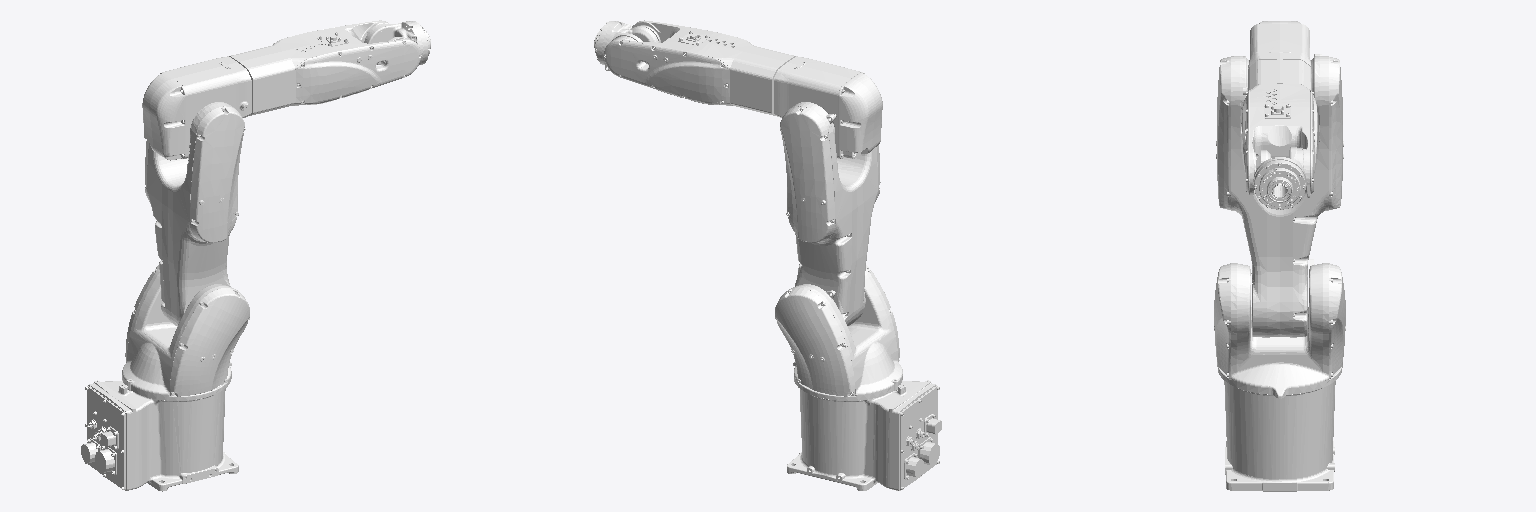
URDF robot description (mz07l):
<?xml version="1.0" encoding="utf-8"?>
<!-- This URDF was automatically created by SolidWorks to URDF Exporter! Originally created by [author] ([email redacted]) 
     Commit Version: 1.6.0-4-g7f85cfe  Build Version: 1.6.7995.38578
     For more information, please see http://wiki.ros.org/sw_urdf_exporter -->
<robot
  name="mz07l">
  <link
    name="base_link">
    <inertial>
      <origin
        xyz="-0.0339413550611 -2.31586087358071E-05 0.0999304628614501"
        rpy="0 0 0" />
      <mass
        value="7.48699011088476" />
      <inertia
        ixx="0.0388213139945611"
        ixy="1.55653817415242E-05"
        ixz="-0.00111870477566243"
        iyy="0.0609468745248538"
        iyz="1.10362007676289E-05"
        izz="0.0543745416553623" />
    </inertial>
    <visual>
      <origin
        xyz="0 0 0"
        rpy="0 0 0" />
      <geometry>
        <mesh
          filename="package://mz07l/meshes/base_link.STL" />
      </geometry>
      <material
        name="">
        <color
          rgba="1 1 1 1" />
      </material>
    </visual>
    <collision>
      <origin
        xyz="0 0 0"
        rpy="0 0 0" />
      <geometry>
        <mesh
          filename="package://mz07l/meshes/base_link.STL" />
      </geometry>
    </collision>
  </link>
  <link
    name="base">
    <inertial>
      <origin
        xyz="-0.0339413550611 -2.31586087358071E-05 0.0999304628614501"
        rpy="0 0 0" />
      <mass
        value="7.48699011088476" />
      <inertia
        ixx="0.0388213139945611"
        ixy="1.55653817415241E-05"
        ixz="-0.00111870477566243"
        iyy="0.0609468745248538"
        iyz="1.10362007676287E-05"
        izz="0.0543745416553623" />
    </inertial>
    <visual>
      <origin
        xyz="0 0 0"
        rpy="0 0 0" />
      <geometry>
        <mesh
          filename="package://mz07l/meshes/base.STL" />
      </geometry>
      <material
        name="">
        <color
          rgba="1 1 1 1" />
      </material>
    </visual>
    <collision>
      <origin
        xyz="0 0 0"
        rpy="0 0 0" />
      <geometry>
        <mesh
          filename="package://mz07l/meshes/base.STL" />
      </geometry>
    </collision>
  </link>
  <joint
    name="J0"
    type="fixed">
    <origin
      xyz="0 0 0"
      rpy="0 0 0" />
    <parent
      link="base_link" />
    <child
      link="base" />
    <axis
      xyz="0 0 0" />
  </joint>
  <link
    name="Link1">
    <inertial>
      <origin
        xyz="0.014841210559779 1.5699038155903E-05 0.0811924353570906"
        rpy="0 0 0" />
      <mass
        value="4.4119668882482" />
      <inertia
        ixx="0.0358985469586784"
        ixy="5.22005399590224E-07"
        ixz="-0.0047925881900029"
        iyy="0.0236405205772908"
        iyz="-8.45938545831362E-06"
        izz="0.0303112529475369" />
    </inertial>
    <visual>
      <origin
        xyz="0 0 0"
        rpy="0 0 0" />
      <geometry>
        <mesh
          filename="package://mz07l/meshes/Link1.STL" />
      </geometry>
      <material
        name="">
        <color
          rgba="1 1 1 1" />
      </material>
    </visual>
    <collision>
      <origin
        xyz="0 0 0"
        rpy="0 0 0" />
      <geometry>
        <mesh
          filename="package://mz07l/meshes/Link1.STL" />
      </geometry>
    </collision>
  </link>
  <joint
    name="J1"
    type="revolute">
    <origin
      xyz="0 0 0.197"
      rpy="0 0 0" />
    <parent
      link="base" />
    <child
      link="Link1" />
    <axis
      xyz="0 0 -1" />
    <limit
      lower="-2.97"
      upper="2.97"
      effort="100"
      velocity="5.24" />
  </joint>
  <link
    name="Link2">
    <inertial>
      <origin
        xyz="-0.011346 -0.20155 -0.00011313"
        rpy="0 0 0" />
      <mass
        value="6.848" />
      <inertia
        ixx="0.14556"
        ixy="-0.00090711"
        ixz="5.9383E-06"
        iyy="0.030004"
        iyz="0.00015927"
        izz="0.12908" />
    </inertial>
    <visual>
      <origin
        xyz="0 0 0"
        rpy="0 0 0" />
      <geometry>
        <mesh
          filename="package://mz07l/meshes/Link2.STL" />
      </geometry>
      <material
        name="">
        <color
          rgba="1 1 1 1" />
      </material>
    </visual>
    <collision>
      <origin
        xyz="0 0 0"
        rpy="0 0 0" />
      <geometry>
        <mesh
          filename="package://mz07l/meshes/Link2.STL" />
      </geometry>
    </collision>
  </link>
  <joint
    name="J2"
    type="revolute">
    <origin
      xyz="0.05 0 0.148"
      rpy="-1.5708 0 0" />
    <parent
      link="Link1" />
    <child
      link="Link2" />
    <axis
      xyz="0 0 -1" />
    <limit
      lower="-2.36"
      upper="1.40"
      effort="100"
      velocity="4.89" />
  </joint>
  <link
    name="Link3">
    <inertial>
      <origin
        xyz="-0.00904991070713413 -0.0205515465689395 -0.000350779118959976"
        rpy="0 0 0" />
      <mass
        value="2.92582891160545" />
      <inertia
        ixx="0.00798036496861194"
        ixy="0.000905760336948981"
        ixz="-2.40936433332828E-05"
        iyy="0.0108776733436978"
        iyz="4.00887085723535E-05"
        izz="0.0138666321003948" />
    </inertial>
    <visual>
      <origin
        xyz="0 0 0"
        rpy="0 0 0" />
      <geometry>
        <mesh
          filename="package://mz07l/meshes/Link3.STL" />
      </geometry>
      <material
        name="">
        <color
          rgba="1 1 1 1" />
      </material>
    </visual>
    <collision>
      <origin
        xyz="0 0 0"
        rpy="0 0 0" />
      <geometry>
        <mesh
          filename="package://mz07l/meshes/Link3.STL" />
      </geometry>
    </collision>
  </link>
  <joint
    name="J3"
    type="revolute">
    <origin
      xyz="0 -0.41 0"
      rpy="0 0 0" />
    <parent
      link="Link2" />
    <child
      link="Link3" />
    <axis
      xyz="0 0 -1" />
    <limit
      lower="-1.169"
      upper="3.316"
      effort="100"
      velocity="6.28" />
  </joint>
  <link
    name="Link4">
    <inertial>
      <origin
        xyz="0.00015954 0.00087409 -0.18756"
        rpy="0 0 0" />
      <mass
        value="3.6583" />
      <inertia
        ixx="0.036368"
        ixy="1.7015E-05"
        ixz="-1.3434E-05"
        iyy="0.034763"
        iyz="-0.00043475"
        izz="0.0075828" />
    </inertial>
    <visual>
      <origin
        xyz="0 0 0"
        rpy="0 0 0" />
      <geometry>
        <mesh
          filename="package://mz07l/meshes/Link4.STL" />
      </geometry>
      <material
        name="">
        <color
          rgba="1 1 1 1" />
      </material>
    </visual>
    <collision>
      <origin
        xyz="0 0 0"
        rpy="0 0 0" />
      <geometry>
        <mesh
          filename="package://mz07l/meshes/Link4.STL" />
      </geometry>
    </collision>
  </link>
  <joint
    name="J4"
    type="revolute">
    <origin
      xyz="0.44 -0.044808 0"
      rpy="1.5708 0 1.5708" />
    <parent
      link="Link3" />
    <child
      link="Link4" />
    <axis
      xyz="0 0 -1" />
    <limit
      lower="-3.32"
      upper="3.32"
      effort="100"
      velocity="9.60" />
  </joint>
  <link
    name="Link5">
    <inertial>
      <origin
        xyz="0.023041 2.0859E-05 -0.0044785"
        rpy="0 0 0" />
      <mass
        value="0.39428" />
      <inertia
        ixx="0.00041541"
        ixy="-1.4643E-08"
        ixz="-4.174E-05"
        iyy="0.00053836"
        iyz="-6.3077E-07"
        izz="0.00049121" />
    </inertial>
    <visual>
      <origin
        xyz="0 0 0"
        rpy="0 0 0" />
      <geometry>
        <mesh
          filename="package://mz07l/meshes/Link5.STL" />
      </geometry>
      <material
        name="">
        <color
          rgba="1 1 1 1" />
      </material>
    </visual>
    <collision>
      <origin
        xyz="0 0 0"
        rpy="0 0 0" />
      <geometry>
        <mesh
          filename="package://mz07l/meshes/Link5.STL" />
      </geometry>
    </collision>
  </link>
  <joint
    name="J5"
    type="revolute">
    <origin
      xyz="0 0 0"
      rpy="1.5708 -1.5708 0" />
    <parent
      link="Link4" />
    <child
      link="Link5" />
    <axis
      xyz="0 0 -1" />
    <limit
      lower="-2.09"
      upper="2.09"
      effort="100"
      velocity="9.60" />
  </joint>
  <link
    name="Link6">
    <inertial>
      <origin
        xyz="-0.000274577916602459 -7.35966871450722E-05 0.0700828201728696"
        rpy="0 0 0" />
      <mass
        value="0.0303019455167" />
      <inertia
        ixx="1.15411094306873E-05"
        ixy="7.12452260823137E-08"
        ixz="-9.29996448151996E-09"
        iyy="1.10884218603645E-05"
        iyz="-2.48005623844806E-09"
        izz="2.14713719931202E-05" />
    </inertial>
    <visual>
      <origin
        xyz="0 0 0"
        rpy="0 0 0" />
      <geometry>
        <mesh
          filename="package://mz07l/meshes/Link6.STL" />
      </geometry>
      <material
        name="">
        <color
          rgba="1 1 1 1" />
      </material>
    </visual>
    <collision>
      <origin
        xyz="0 0 0"
        rpy="0 0 0" />
      <geometry>
        <mesh
          filename="package://mz07l/meshes/Link6.STL" />
      </geometry>
    </collision>
  </link>
  <joint
    name="J6"
    type="revolute">
    <origin
      xyz="0 0 0"
      rpy="1.5708 0 1.5708" />
    <parent
      link="Link5" />
    <child
      link="Link6" />
    <axis
      xyz="0 0 -1" />
    <limit
      lower="-6.28"
      upper="6.28"
      effort="100"
      velocity="17.5" />
  </joint>
  <link
    name="Tools">
    <inertial>
      <origin
        xyz="-0.00027457791660368 -7.35966871449611E-05 -0.00291717982713169"
        rpy="0 0 0" />
      <mass
        value="0.0303019455167" />
      <inertia
        ixx="1.15411094306873E-05"
        ixy="7.12452260822958E-08"
        ixz="-9.29996448151563E-09"
        iyy="1.10884218603645E-05"
        iyz="-2.48005623844378E-09"
        izz="2.14713719931202E-05" />
    </inertial>
    <visual>
      <origin
        xyz="0 0 0"
        rpy="0 0 0" />
      <geometry>
        <mesh
          filename="package://mz07l/meshes/Tools.STL" />
      </geometry>
      <material
        name="">
        <color
          rgba="1 1 1 1" />
      </material>
    </visual>
    <collision>
      <origin
        xyz="0 0 0"
        rpy="0 0 0" />
      <geometry>
        <mesh
          filename="package://mz07l/meshes/Tools.STL" />
      </geometry>
    </collision>
  </link>
  <joint
    name="J7"
    type="fixed">
    <origin
      xyz="0 0 0.073"
      rpy="0 0 0" />
    <parent
      link="Link6" />
    <child
      link="Tools" />
    <axis
      xyz="0 0 0" />
  </joint>
</robot>

--- Facts derived from the render (not from the file) ---
Views: 3 orthographic renders of the robot side by side, from view 1: azimuth 30°, elevation 25°; view 2: azimuth 150°, elevation 25°; view 3: azimuth 270°, elevation 25°.
Model mz07l with 9 links and 8 joints (6 revolute, 2 fixed), rooted at base_link, posed every joint at zero.
Links seen in each view (by area): view 1: Link2, base_link, Link1, Link4, Link3, Link5; view 2: Link2, base_link, Link1, Link4, Link3, Link5; view 3: Link2, Link1, base_link, Link4, Link3, Link5, Link6.
Boxes of the visible links, bbox=[...] form: Link2: bbox=[145, 102, 245, 326]; base_link: bbox=[81, 380, 238, 491]; Link1: bbox=[122, 265, 249, 400]; Link4: bbox=[229, 20, 421, 115]; Link3: bbox=[142, 56, 251, 160]; Link5: bbox=[364, 21, 429, 64]; Link2: bbox=[780, 102, 880, 325]; base_link: bbox=[787, 380, 941, 490]; Link1: bbox=[775, 265, 902, 400]; Link4: bbox=[604, 20, 795, 115]; Link3: bbox=[774, 56, 882, 158]; Link5: bbox=[595, 21, 658, 64]; Link2: bbox=[1216, 54, 1343, 337]; Link1: bbox=[1214, 259, 1345, 398]; base_link: bbox=[1224, 381, 1335, 491]; Link4: bbox=[1242, 59, 1317, 197]; Link3: bbox=[1243, 21, 1311, 94]; Link5: bbox=[1253, 147, 1306, 209]; Link6: bbox=[1259, 168, 1300, 206].
Size in the robot's own frame: 0.7599 by 0.23 by 0.8607 metres.
Meshes: 9 distinct files referenced, 8 mesh visuals loaded (8 binary STL); not drawn: 1 (reference not matched to a file when rendering).
